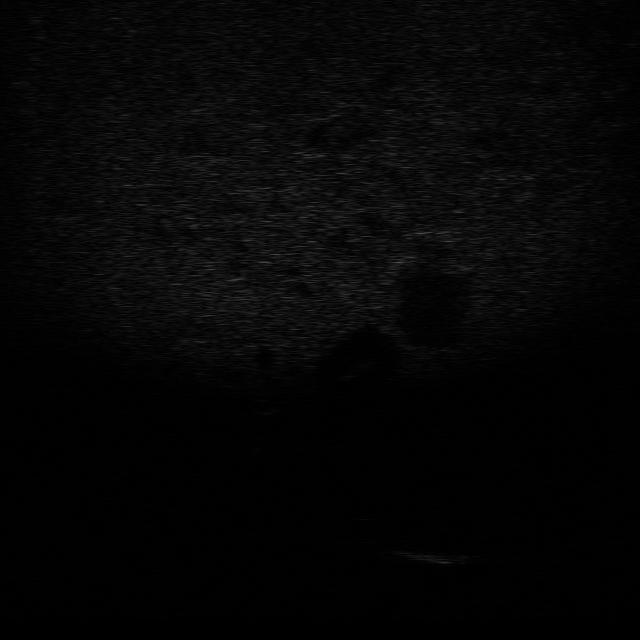ball: (246, 395, 284, 416)
metal bucket: (384, 547, 480, 571)
tyre: (323, 514, 388, 545)
